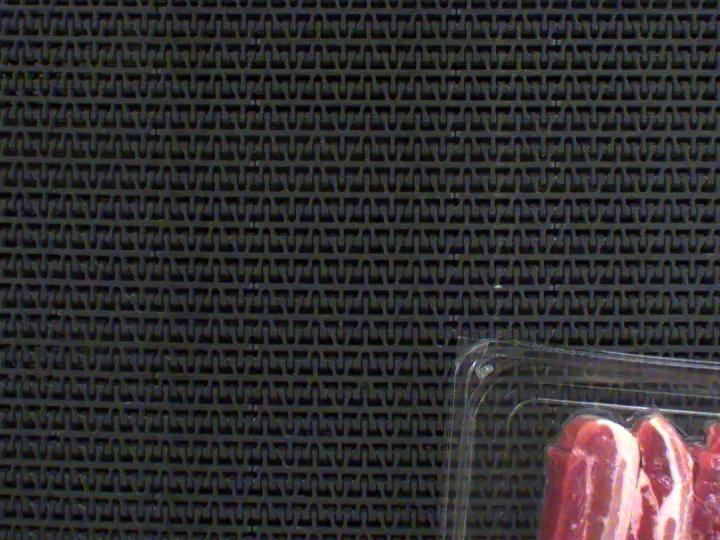unsealed: (543, 397, 720, 502)
